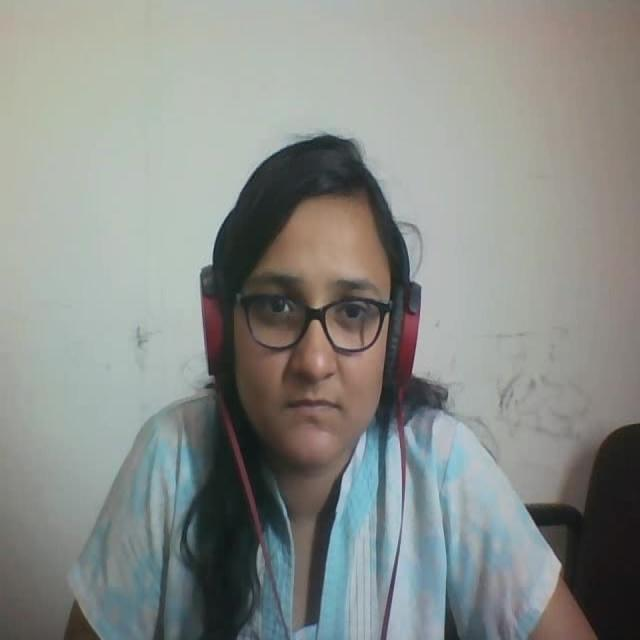Engaged: (189, 124, 432, 477)
